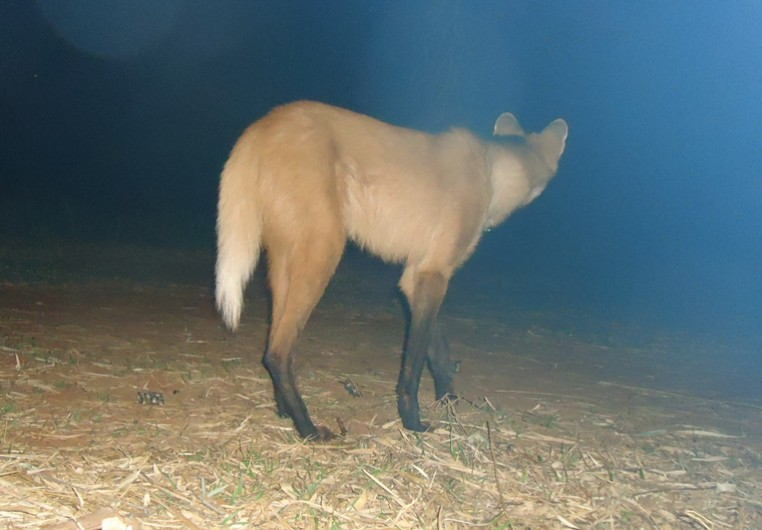LoboGuara: (208, 85, 577, 449)
